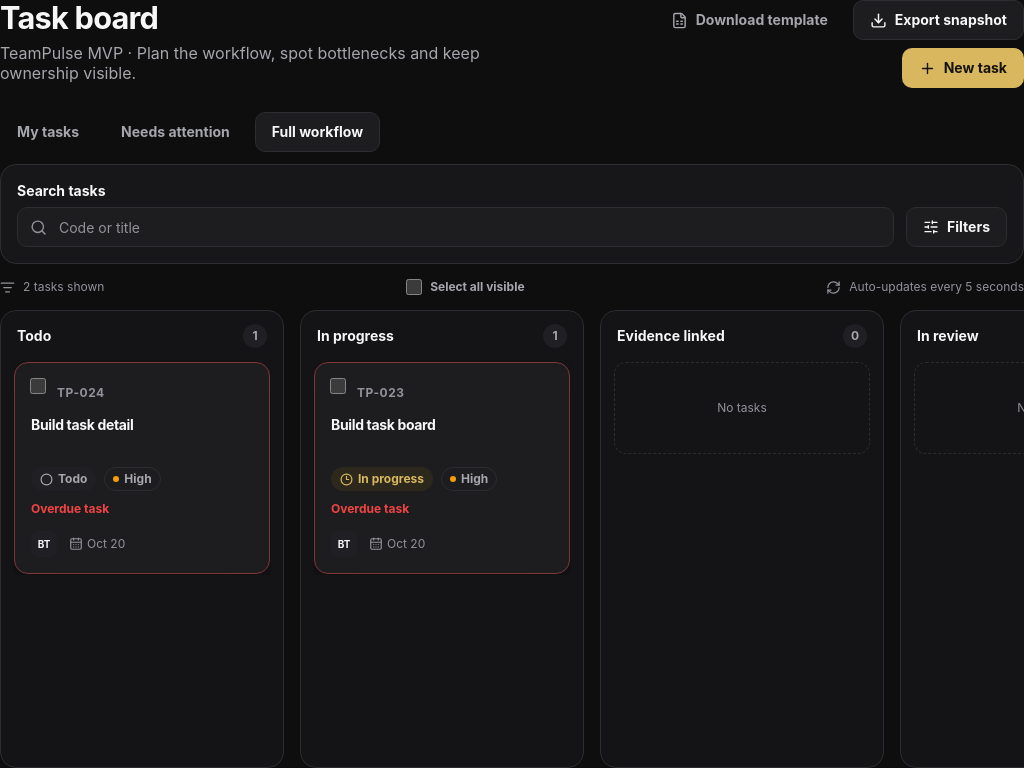
it: task board flow › loads every API page and keeps filters in the current project URL
This screenshot has width=1024, height=768.
Expected: the heading "Build task board" is shown, [331, 416, 436, 433]
Expected: the heading "Build task detail" is shown, [31, 416, 133, 433]
Click the button "Filters": {"x": 957, "y": 227} [906, 207, 1007, 247]
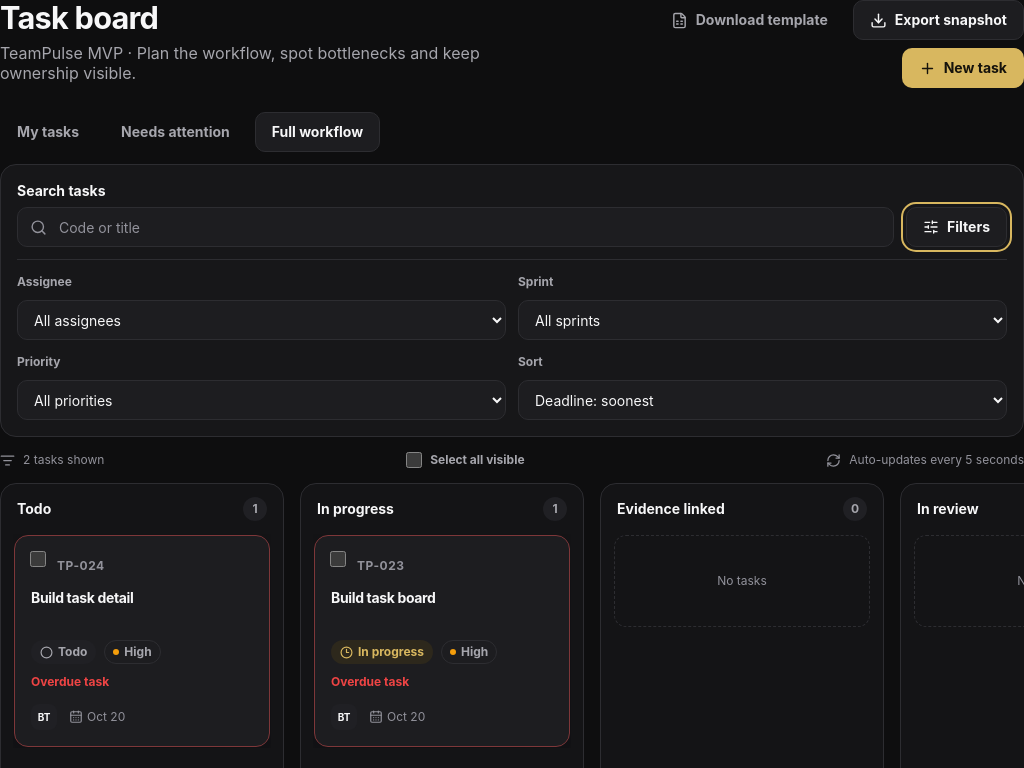
Select "High" in the dropdown labelled "Priority": {"x": 262, "y": 400} [17, 380, 506, 420]
(page scrolled)
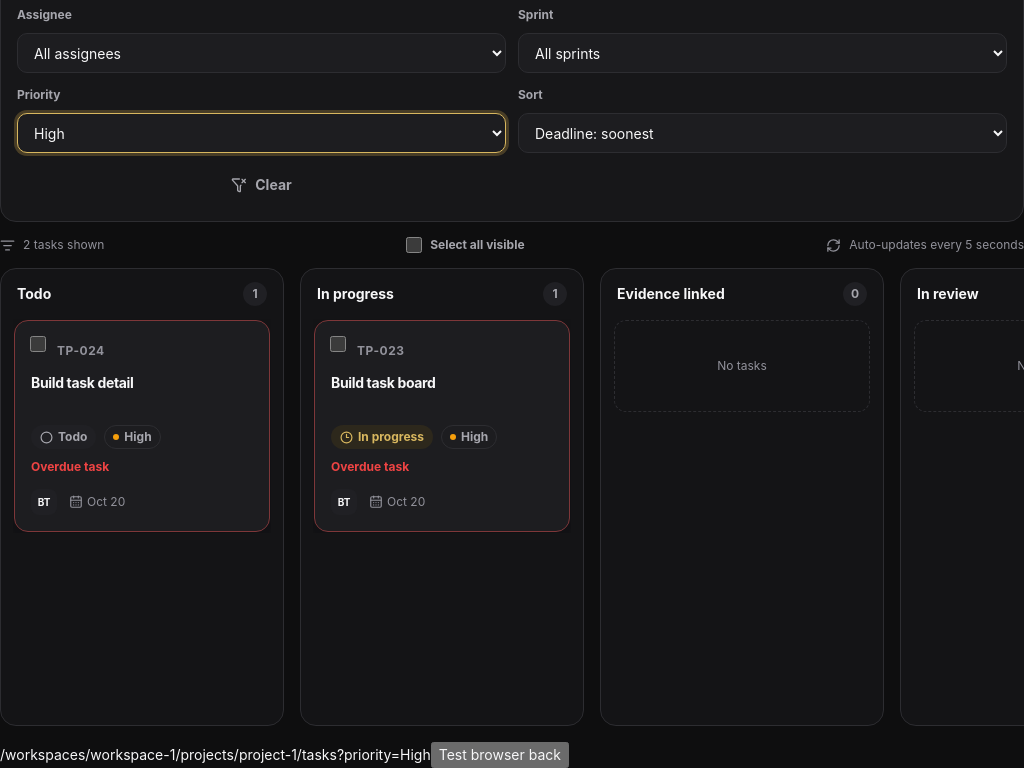
Now the text with test id "location" reads "/workspaces/workspace-1/projects/project-1/tasks?priority=High", box [0, 746, 431, 763]
